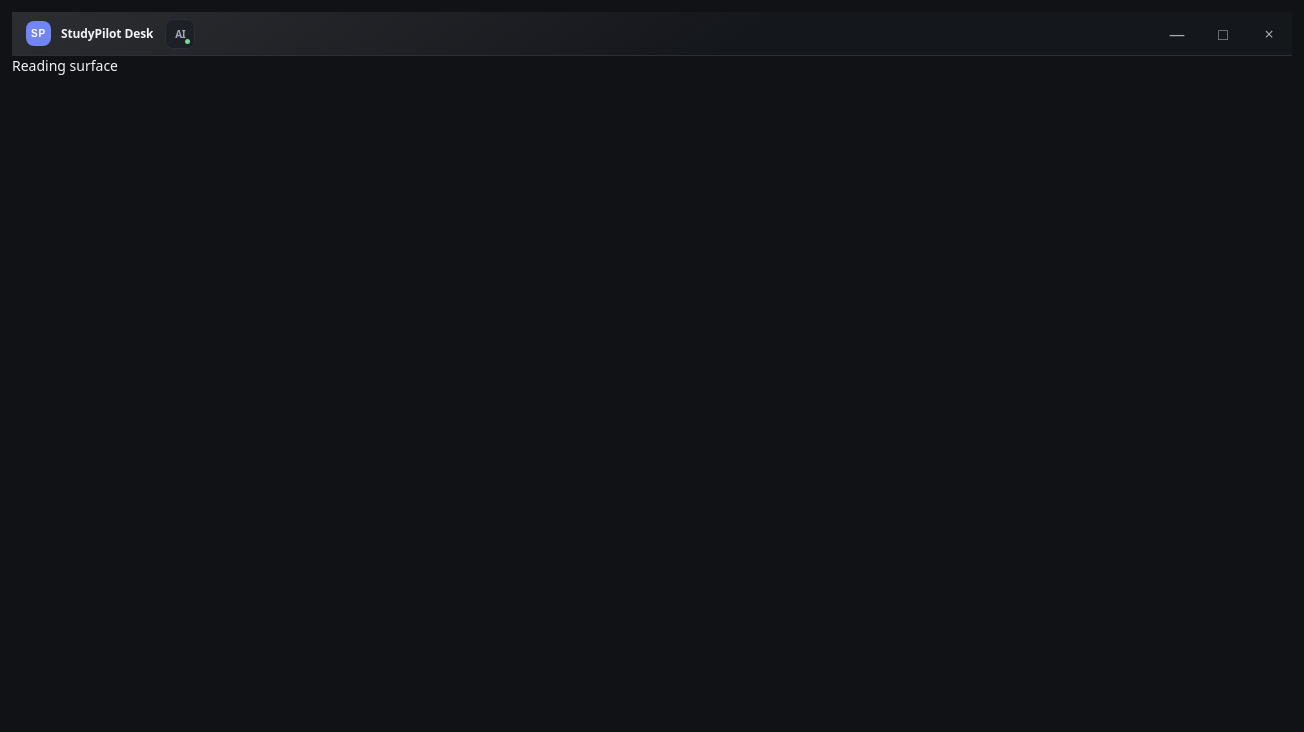
Test case: requires confirmation before applying an Agent workspace plan and supports batch undo
Click the button with aria-label "打开 PILOT 助手". click: click(180, 34)
box: [165, 18, 195, 48]
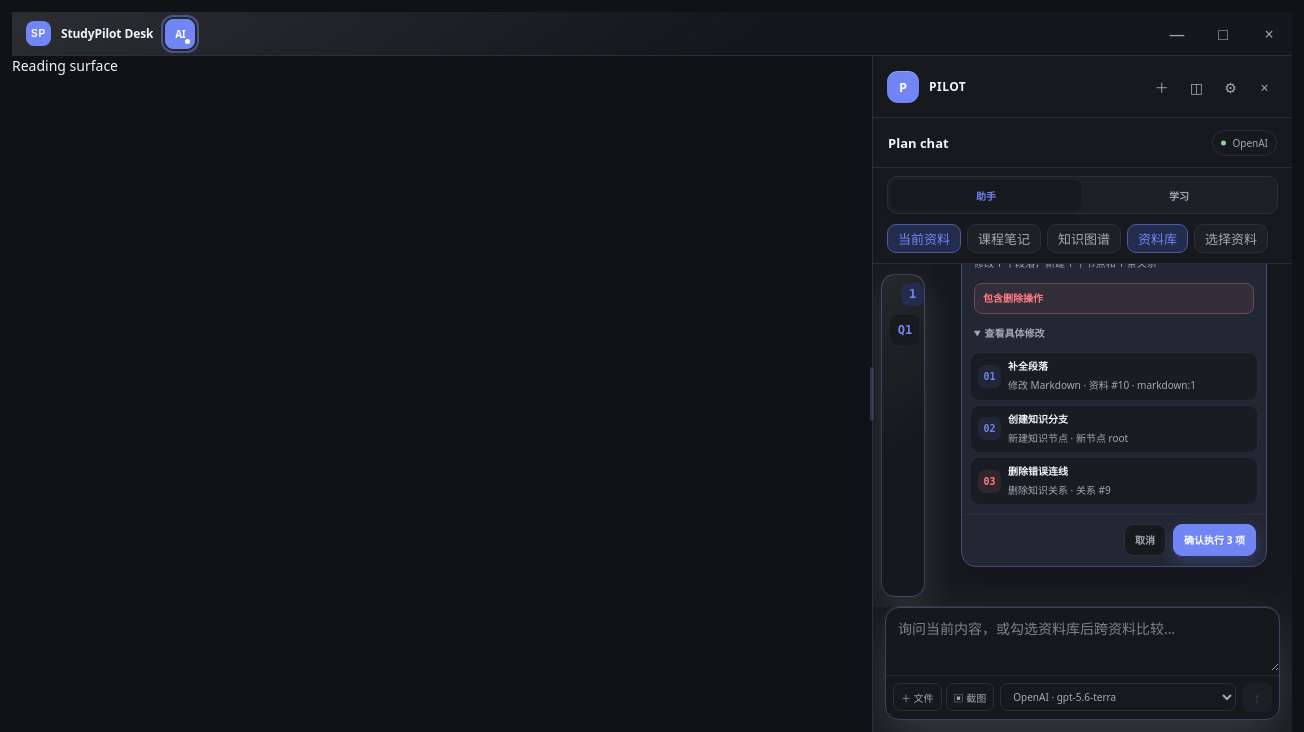
Now the text "补全段落" is shown, box [1008, 359, 1048, 373]
Now the text "删除错误连线" is shown, box [1008, 464, 1068, 478]
Now the text "包含删除操作" is shown, box [974, 283, 1254, 314]
Click the button with aria-label "确认执行整批计划". click: click(1215, 540)
box: [1173, 524, 1256, 556]
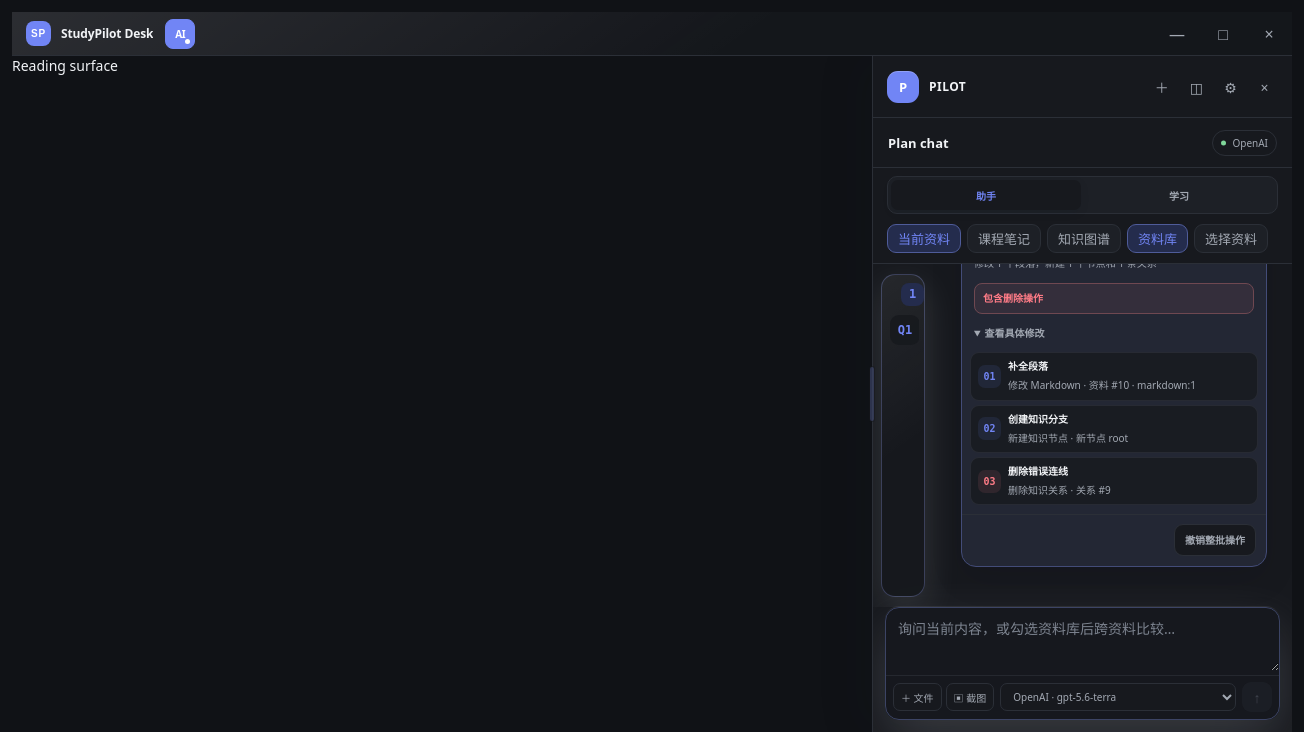
Click the button "撤销整批操作". click: click(1215, 540)
box: [1174, 524, 1256, 556]
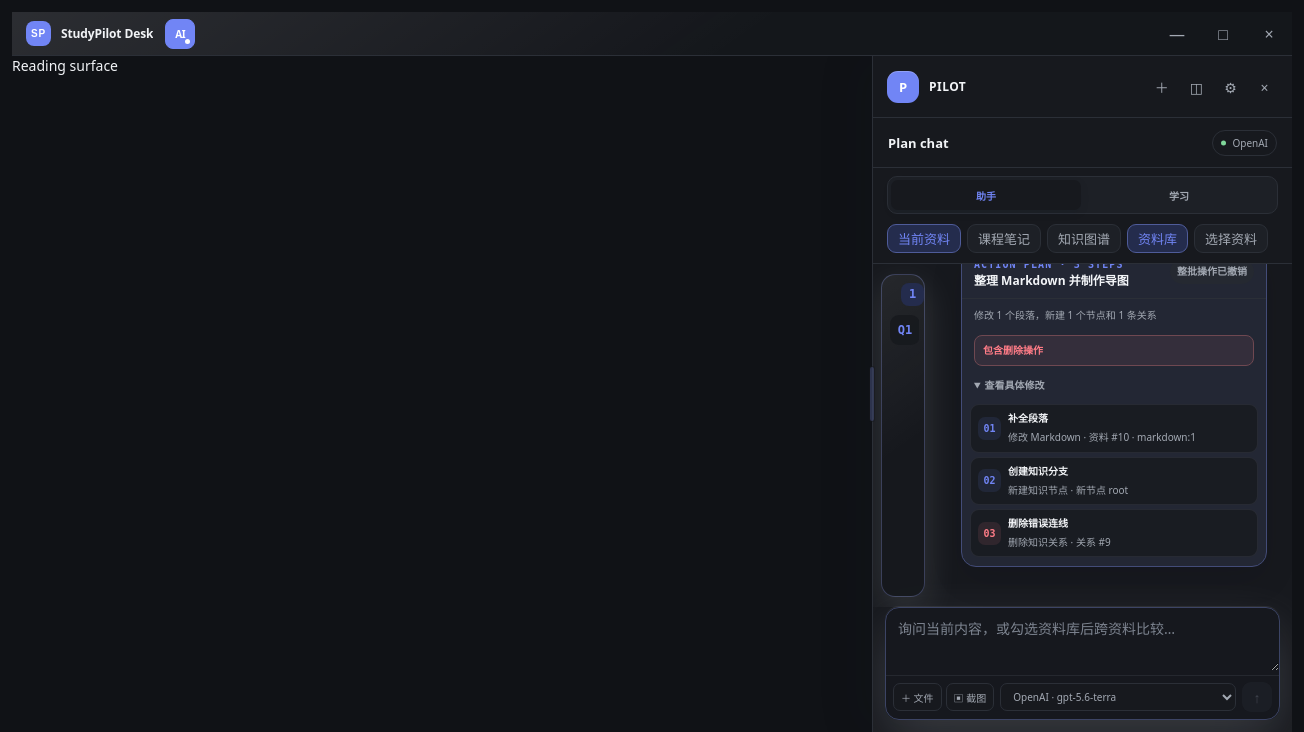
Now the text "整批操作已撤销" is shown, box [1170, 264, 1254, 284]
